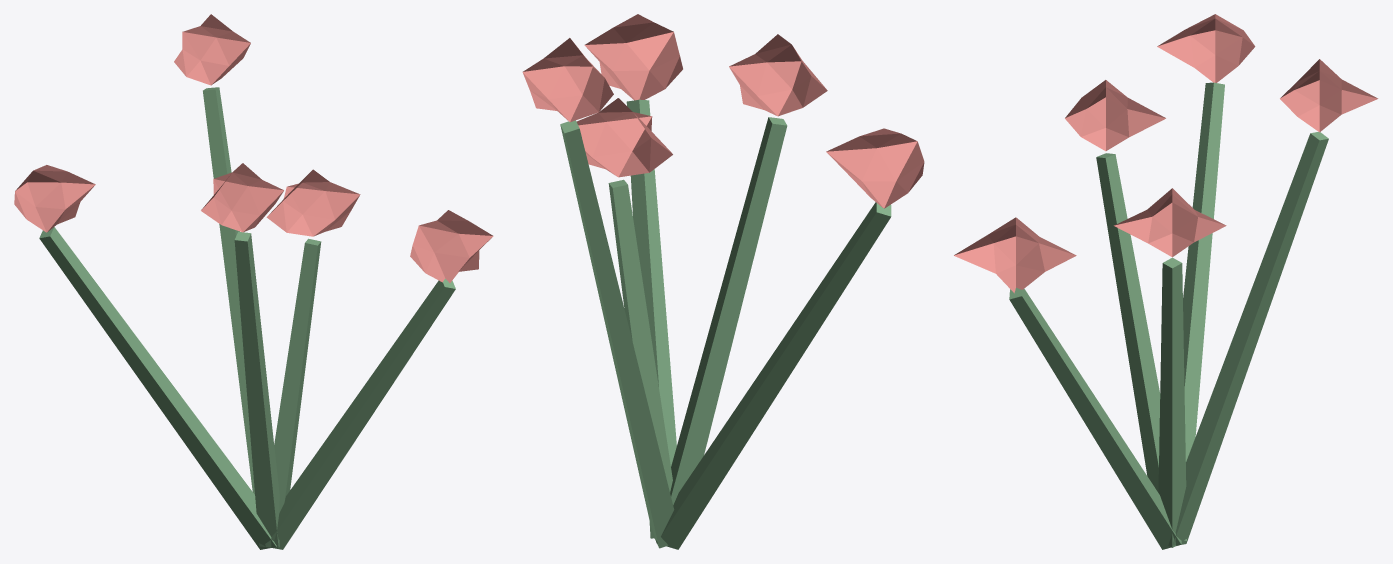
The model's file is flower_v07.glb.
3 views of the same model, side by side, from view 1: azimuth 30°, elevation 25°; view 2: azimuth 150°, elevation 25°; view 3: azimuth 270°, elevation 25° (orthographic). The views are drawn at different scales.
Parts seen in each view (by area): view 1: lod0; view 2: lod0; view 3: lod0.
Boxes of the visible parts, box(x1,y1,x2,y2) form: lod0: box(14, 14, 493, 549); lod0: box(522, 14, 924, 549); lod0: box(954, 14, 1378, 549).
Size of what is drawn, in the model's own units: 0.5542 by 0.6633 by 0.5179.
